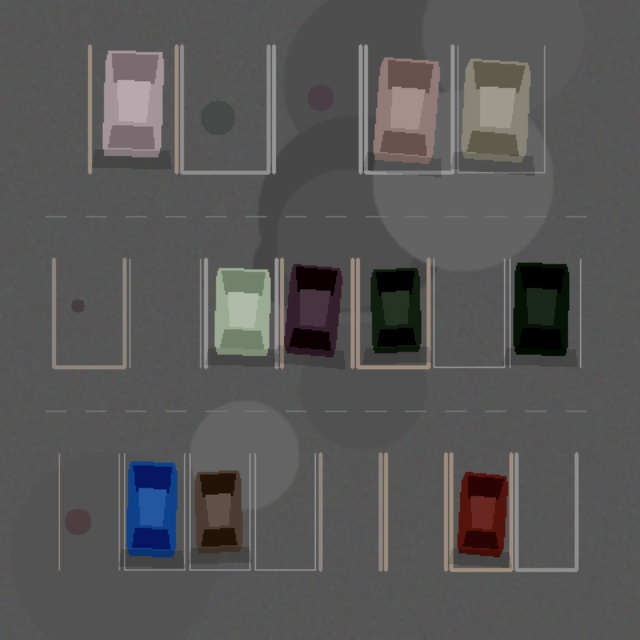space-empty: (181, 45, 268, 172), (273, 45, 360, 172), (53, 259, 124, 367), (129, 259, 200, 367), (433, 259, 504, 367), (59, 453, 119, 569), (255, 453, 315, 569), (320, 453, 380, 569), (385, 453, 445, 569), (516, 453, 576, 569)
space-occupied: (89, 45, 176, 172), (365, 45, 452, 172), (457, 45, 544, 172), (205, 259, 276, 367), (281, 259, 352, 367), (357, 259, 428, 367), (509, 259, 580, 367), (124, 453, 184, 569), (189, 453, 249, 569), (451, 453, 511, 569)
